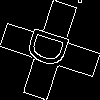D: (25, 25, 79, 73)
